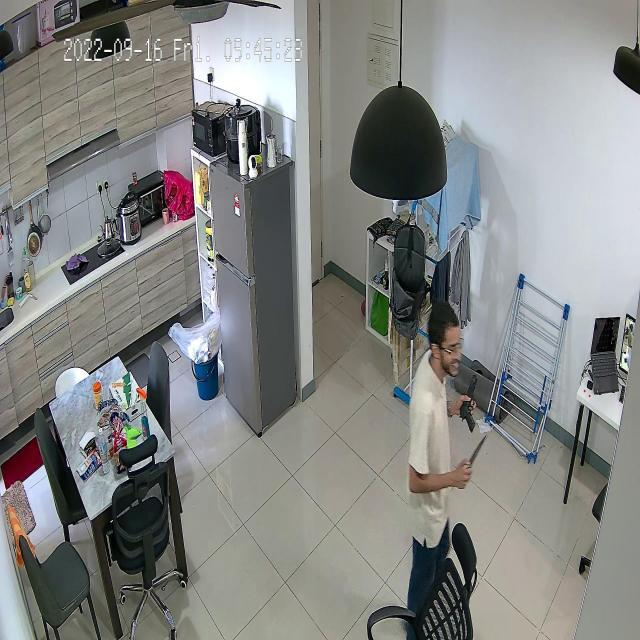Gun: (456, 363, 485, 432)
Knife: (468, 436, 492, 482)
